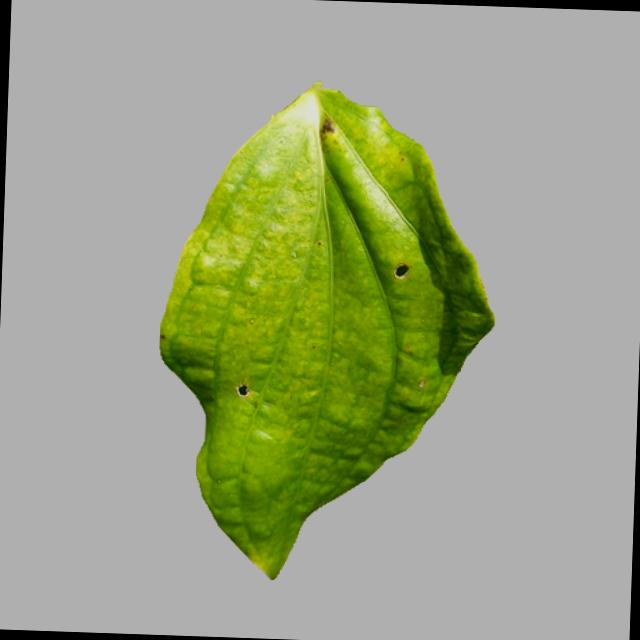yellow-mottle-virus: (141, 84, 518, 589)
